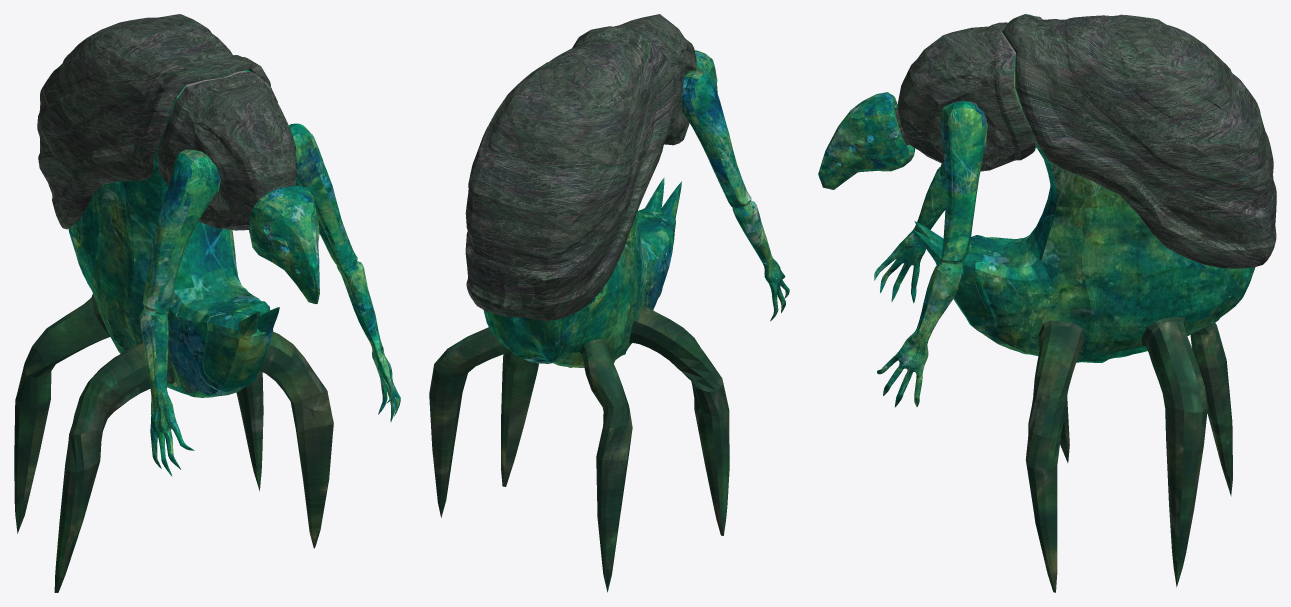
File: Andar.0019.obj
The picture shows the model from 3 angles, left to right: view 1: azimuth 30°, elevation 25°; view 2: azimuth 150°, elevation 25°; view 3: azimuth 270°, elevation 25°; orthographic projection. The views are drawn at different scales.
Size of the model in its own units: 2.08 by 3.94 by 3.18.
Materials: 5 (4 with a texture image).
